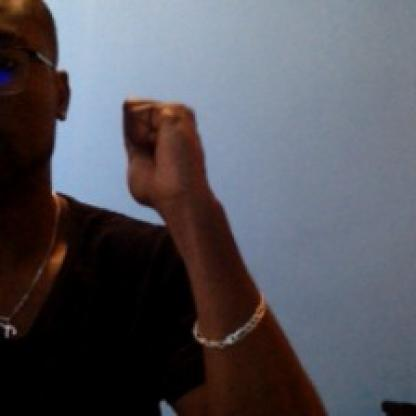BACKWARD: (116, 63, 228, 245)
